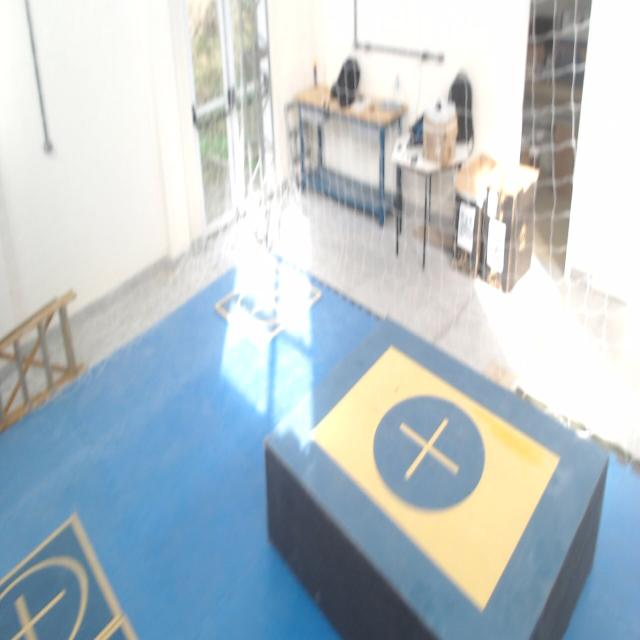base_inicio: (305, 346, 561, 610)
base_pouso: (0, 512, 123, 639), (99, 613, 139, 639)
